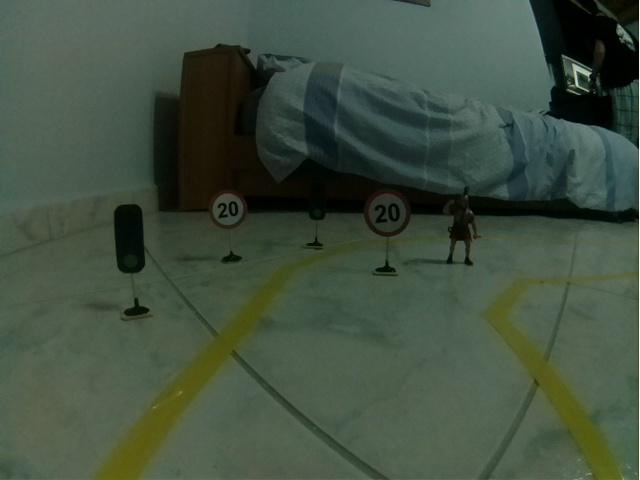Green Traffic Light: (113, 204, 145, 273), (309, 176, 326, 221)
Person: (444, 186, 482, 266)
Speed Limit 20: (364, 189, 411, 237), (208, 190, 248, 229)
